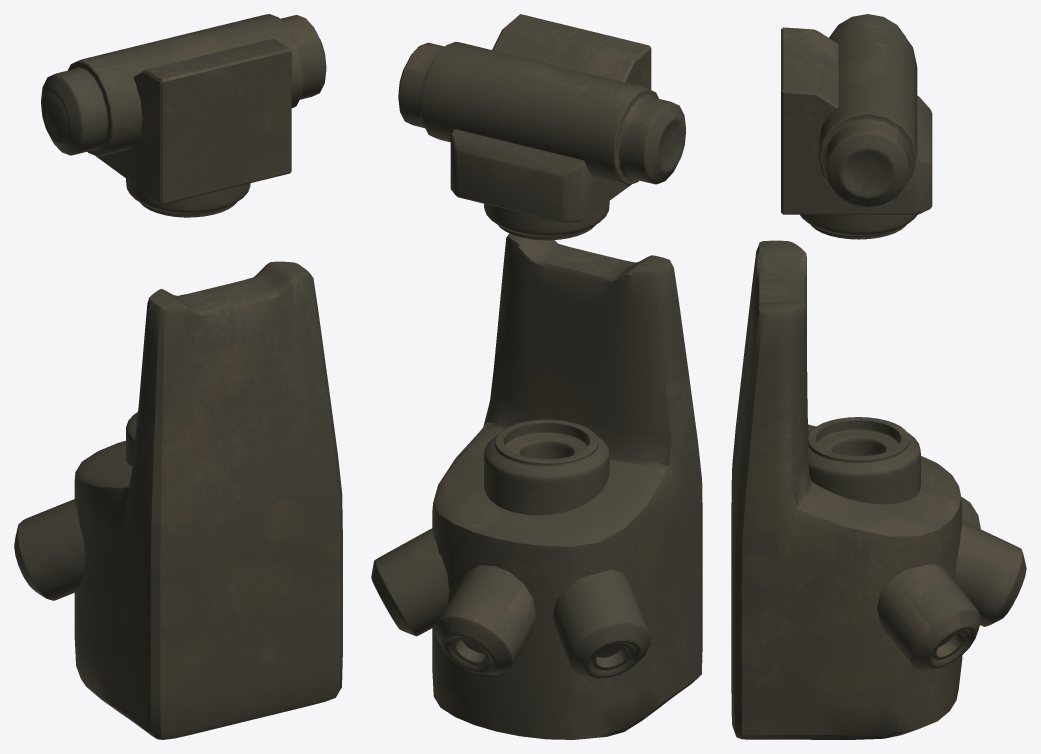
The model's file is Back Connections hopefully with ID mask V2.fbx.
3 views of the same model, side by side, from view 1: azimuth 30°, elevation 25°; view 2: azimuth 150°, elevation 25°; view 3: azimuth 270°, elevation 25° (orthographic).
Parts seen in each view (by area): view 1: 00-4 Machine Back Connections; view 2: 00-4 Machine Back Connections; view 3: 00-4 Machine Back Connections.
Part boxes in pixels (box(x1,y1,x2,y2)): 00-4 Machine Back Connections: box(14, 14, 342, 739); 00-4 Machine Back Connections: box(371, 14, 702, 739); 00-4 Machine Back Connections: box(731, 14, 1026, 739).
Size of the model in its own units: 136 by 312 by 130.
Materials: 1 (1 with a texture image).
